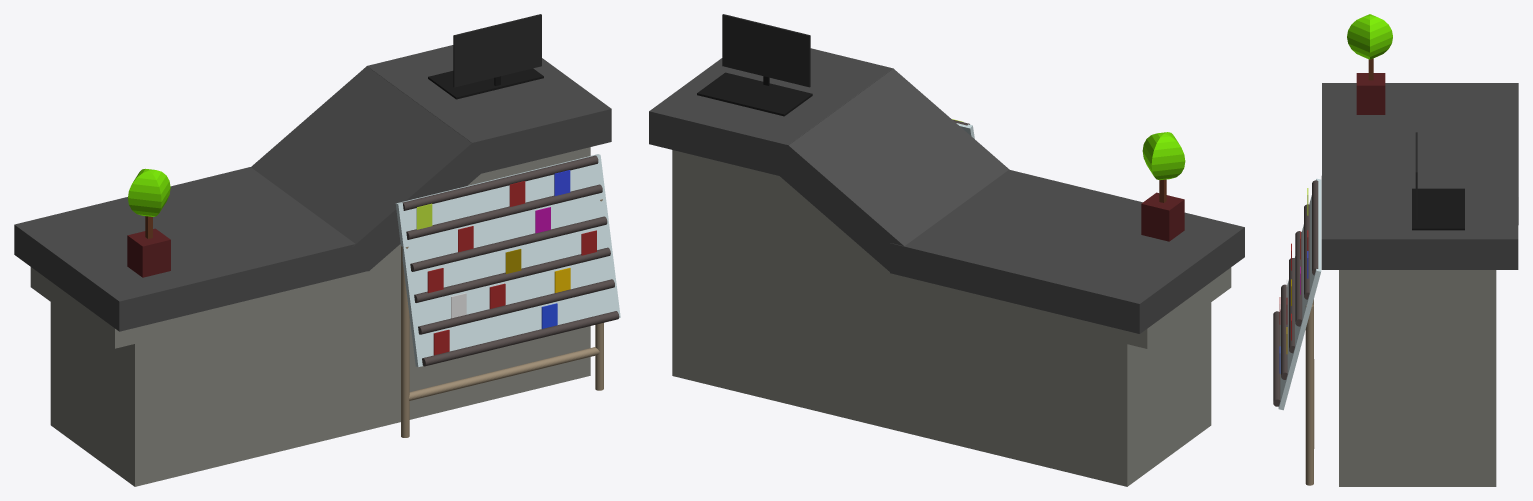
Rendered from Reception_Desk.fbx.
3 views of the same model, side by side, from view 1: azimuth 30°, elevation 25°; view 2: azimuth 150°, elevation 25°; view 3: azimuth 270°, elevation 25° (orthographic). The views are drawn at different scales.
Parts seen in each view (by area): view 1: Cube.020, Cube.002, Cube.003, Cylinder.014, Cube.018, Cylinder.007, Cube.022, Sphere, Cube.021; view 2: Cube.002, Cube.020, Cube.018, Cube.021, Cube.022, Sphere; view 3: Cube.002, Cube.020, Cylinder.014, Cube.003, Cube.021, Cylinder.007, Sphere, Cube.022.
Part boxes in pixels (x1,y1,x2,y2): Cube.020: [14, 45, 611, 331]; Cube.002: [30, 147, 590, 486]; Cube.003: [395, 154, 620, 367]; Cylinder.014: [402, 155, 619, 366]; Cube.018: [453, 14, 541, 87]; Cylinder.007: [401, 199, 603, 437]; Cube.022: [127, 228, 170, 277]; Sphere: [128, 168, 170, 216]; Cube.021: [428, 68, 543, 99]; Cube.002: [672, 150, 1231, 486]; Cube.020: [649, 48, 1244, 333]; Cube.018: [722, 14, 810, 87]; Cube.021: [697, 72, 812, 116]; Cube.022: [1141, 192, 1184, 241]; Sphere: [1142, 132, 1185, 180]; Cube.002: [1339, 270, 1496, 486]; Cube.020: [1321, 83, 1518, 269]; Cylinder.014: [1273, 180, 1318, 406]; Cube.003: [1278, 178, 1321, 410]; Cube.021: [1412, 188, 1464, 230]; Cylinder.007: [1305, 299, 1314, 485]; Sphere: [1347, 14, 1392, 59]; Cube.022: [1356, 73, 1385, 114].
Bounding box in the file's own units: 540 × 349 × 250.
